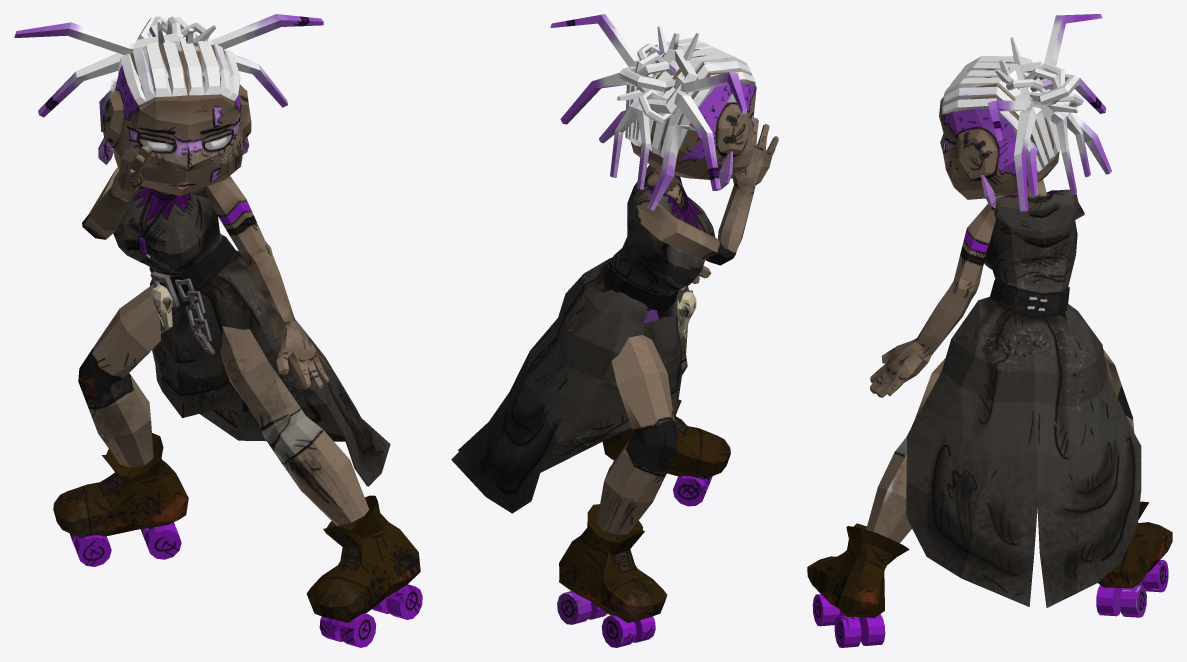
The model's file is bruja_000023.obj.
The picture shows the model from 3 angles, left to right: view 1: azimuth 30°, elevation 25°; view 2: azimuth 150°, elevation 25°; view 3: azimuth 270°, elevation 25°; orthographic projection. The views are drawn at different scales.
Visible parts, largest first — view 1: Bruja_Plane.001; view 2: Bruja_Plane.001; view 3: Bruja_Plane.001.
Boxes of the visible parts, left/top/right/bottom form: Bruja_Plane.001: left=14, top=14, right=422, bottom=647; Bruja_Plane.001: left=451, top=14, right=778, bottom=647; Bruja_Plane.001: left=807, top=14, right=1172, bottom=647.
Bounding box in the file's own units: 9.31 × 15.44 × 9.24.
